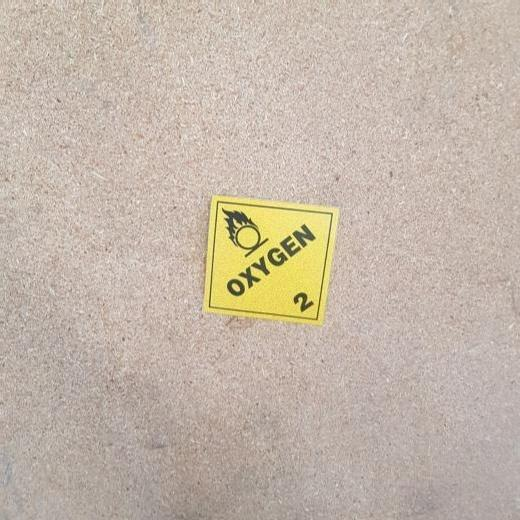oxidizer: (203, 195, 339, 322)
